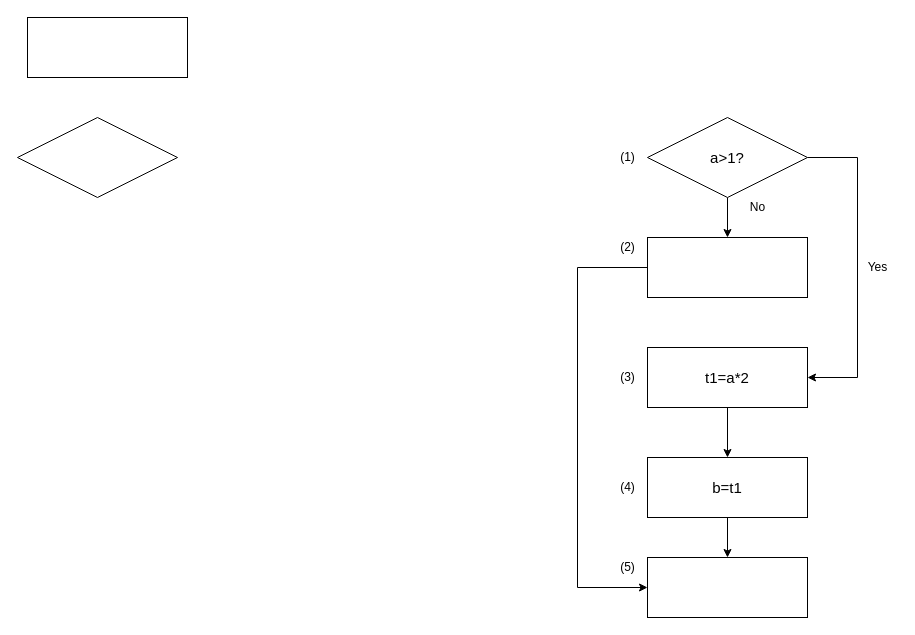
This 915x635 diagram has some shape labels left out. The centre of each missing label's shape, as x and y in pixels:
a=0: the point at 727,587
go to (5): the point at 727,267
